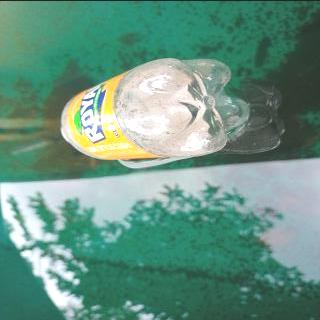bottle: (57, 55, 252, 162)
